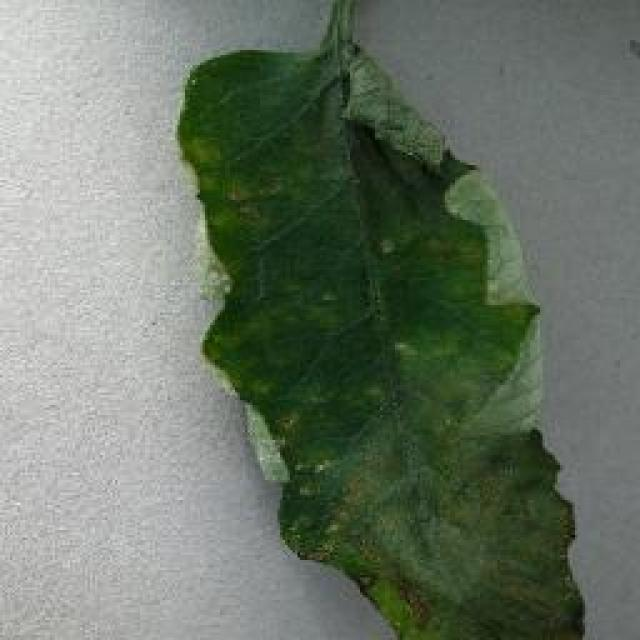Tomato___Late_blight: (175, 0, 585, 638)
